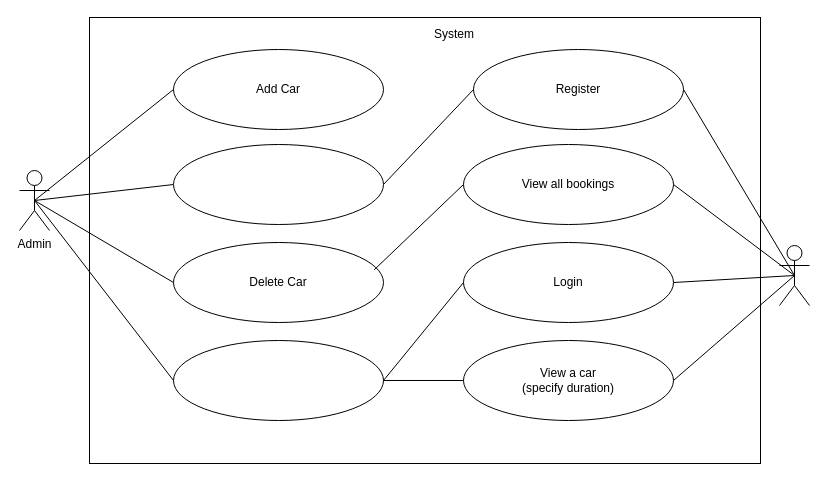
This 837x481 diagram has some shape labels left out. The centre of each missing label's shape, as x and y in pixels:
Approve/reject bookings: (x=278, y=380)
Customer: (x=794, y=275)
Update Car: (x=278, y=184)
